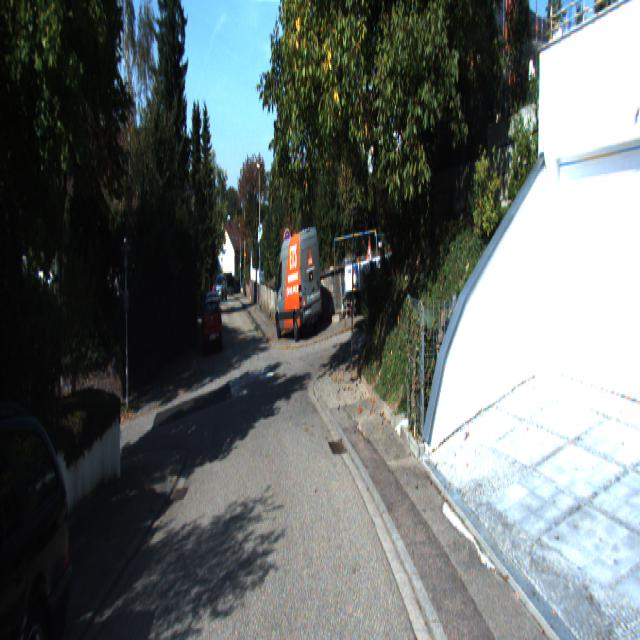Car: (0, 384, 89, 638), (274, 226, 323, 342), (200, 294, 224, 356)
